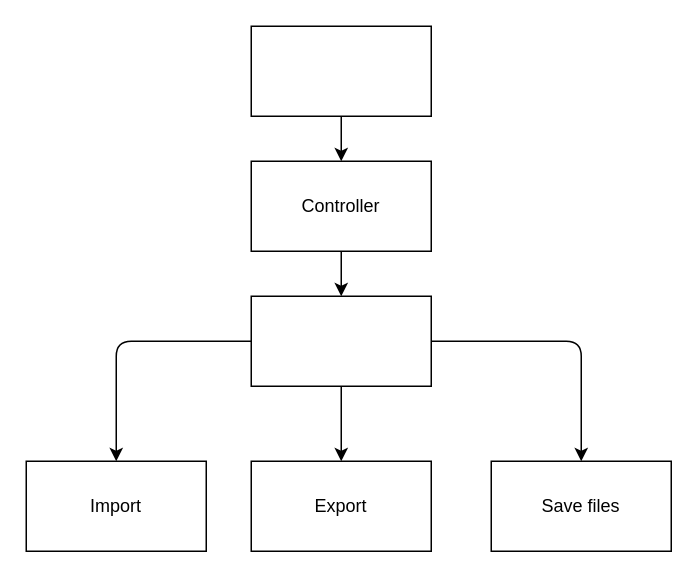
Some shapes in this 698 by 578 pixel diagram are drawn without their labels. Each missing label, with the box of its shape:
Menu: (250, 25, 431, 116)
Operations: (250, 295, 431, 386)
